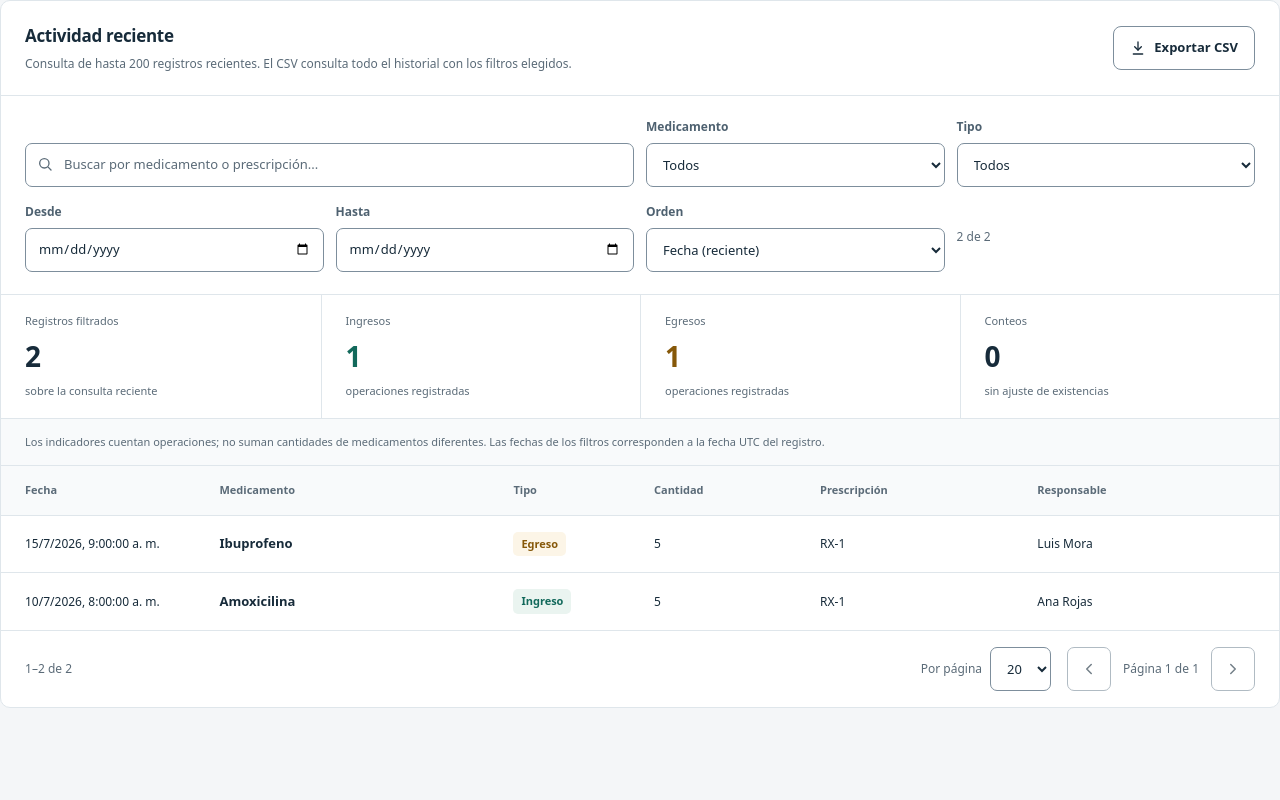
Test: MovementsTab › muestra mensaje cuando no hay coincidencias
Type "zzz" into the field named "Buscar movimientos".
click(330, 165); type("zzz")  # box [25, 143, 634, 187]
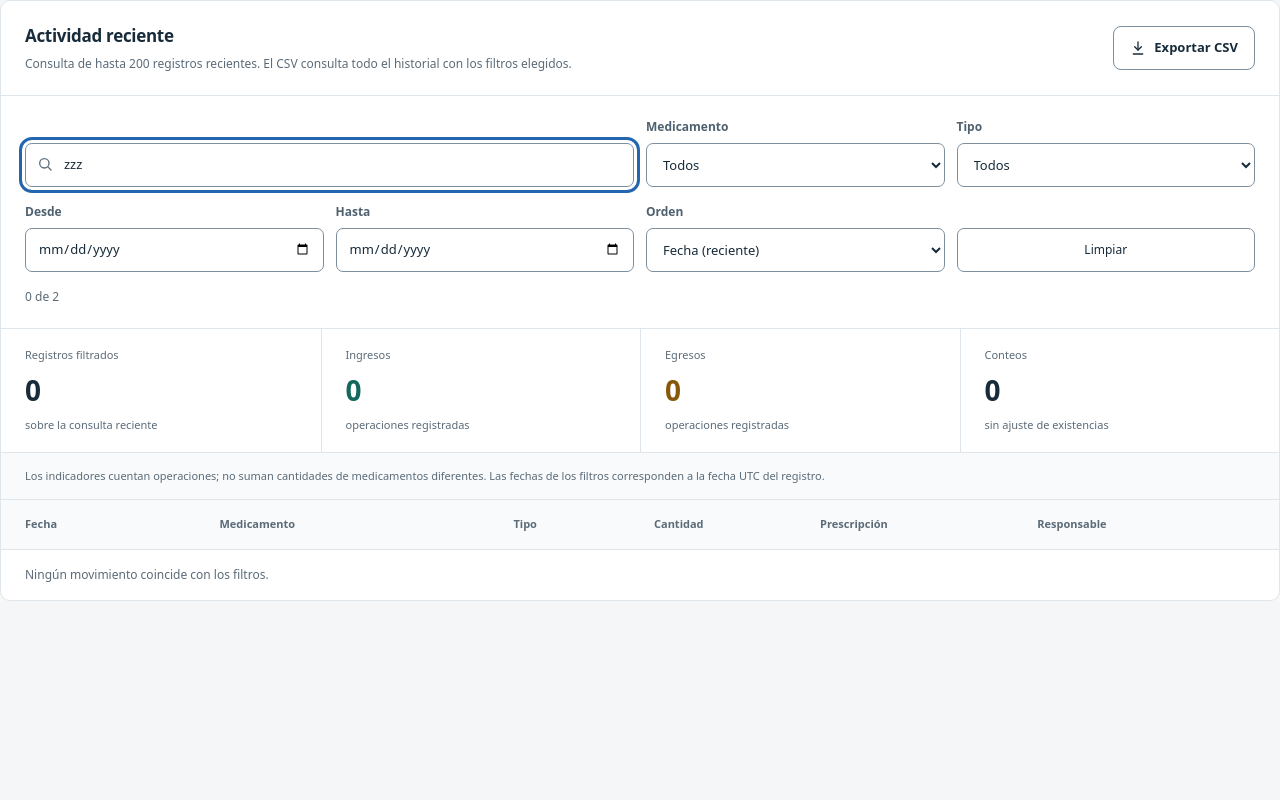
Result: the text "Ningún movimiento coincide con los filtros." is shown at [1, 549, 1279, 600]
